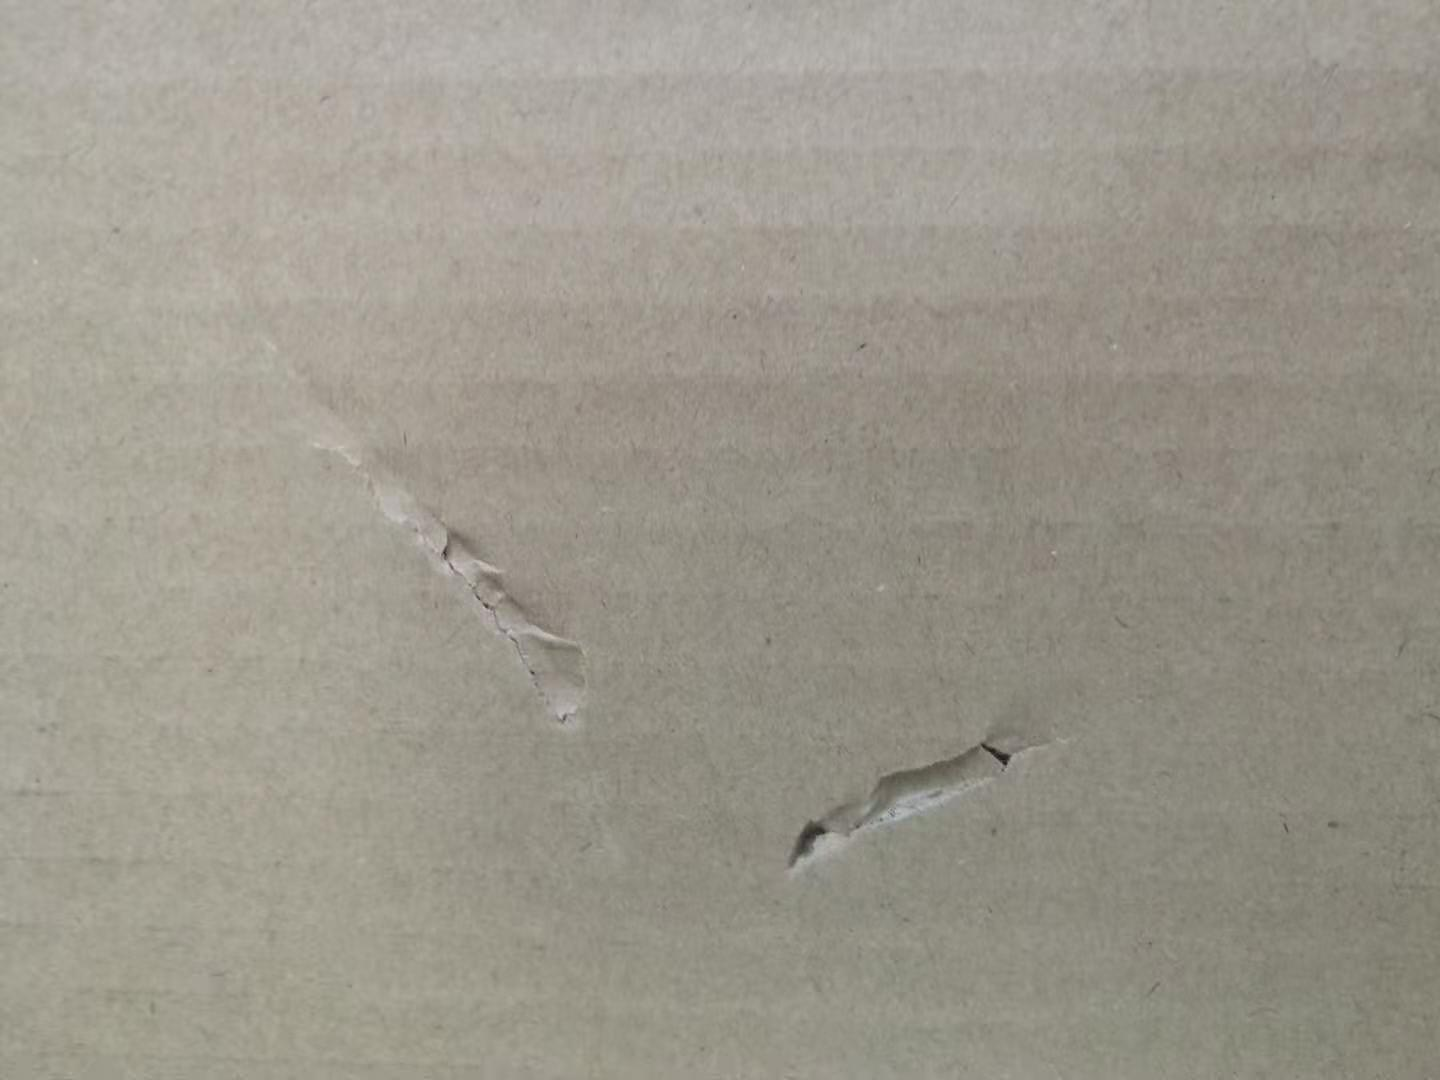defect: (202, 269, 654, 881), (752, 677, 1102, 886)
